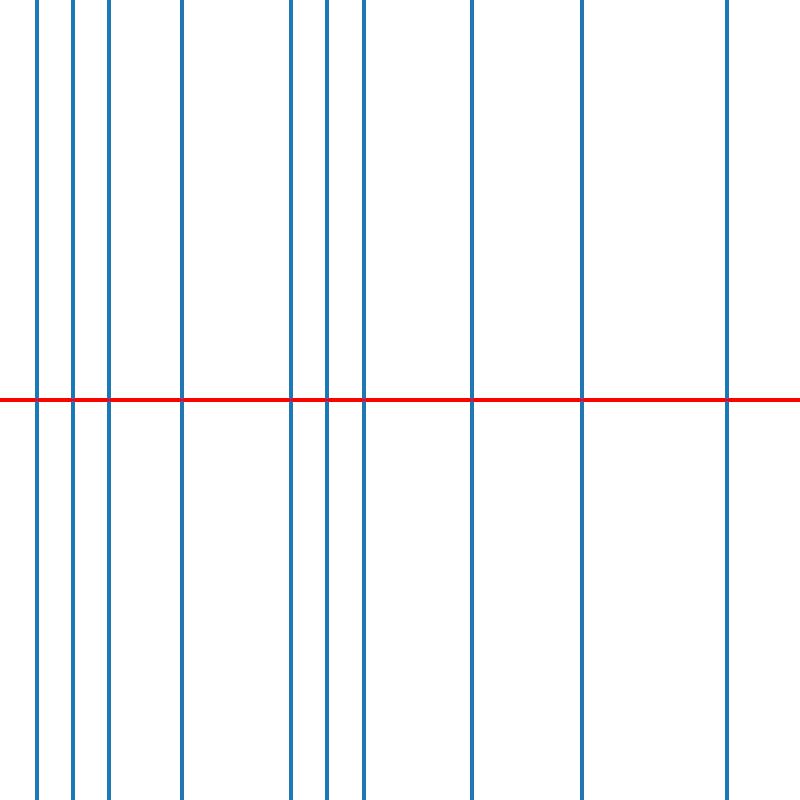root: (32, 396, 40, 404), (360, 396, 367, 404), (69, 396, 76, 404), (287, 396, 294, 404), (723, 396, 730, 404), (178, 396, 185, 404), (323, 396, 330, 404), (578, 396, 585, 404), (469, 396, 476, 404), (105, 396, 112, 404)
